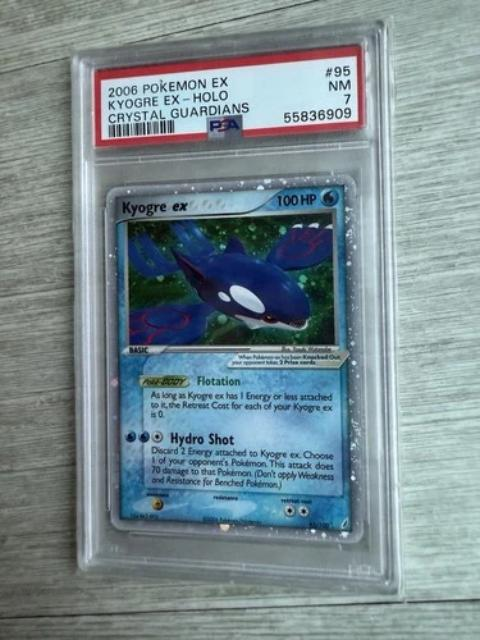Card: (101, 168, 369, 548)
Name: (116, 193, 194, 221)
